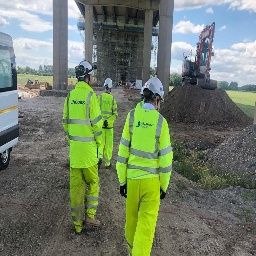helmet: (142, 72, 165, 100), (76, 58, 98, 81)
person: (120, 72, 175, 256), (61, 58, 104, 238)
vest: (124, 105, 172, 189), (65, 84, 103, 168)
